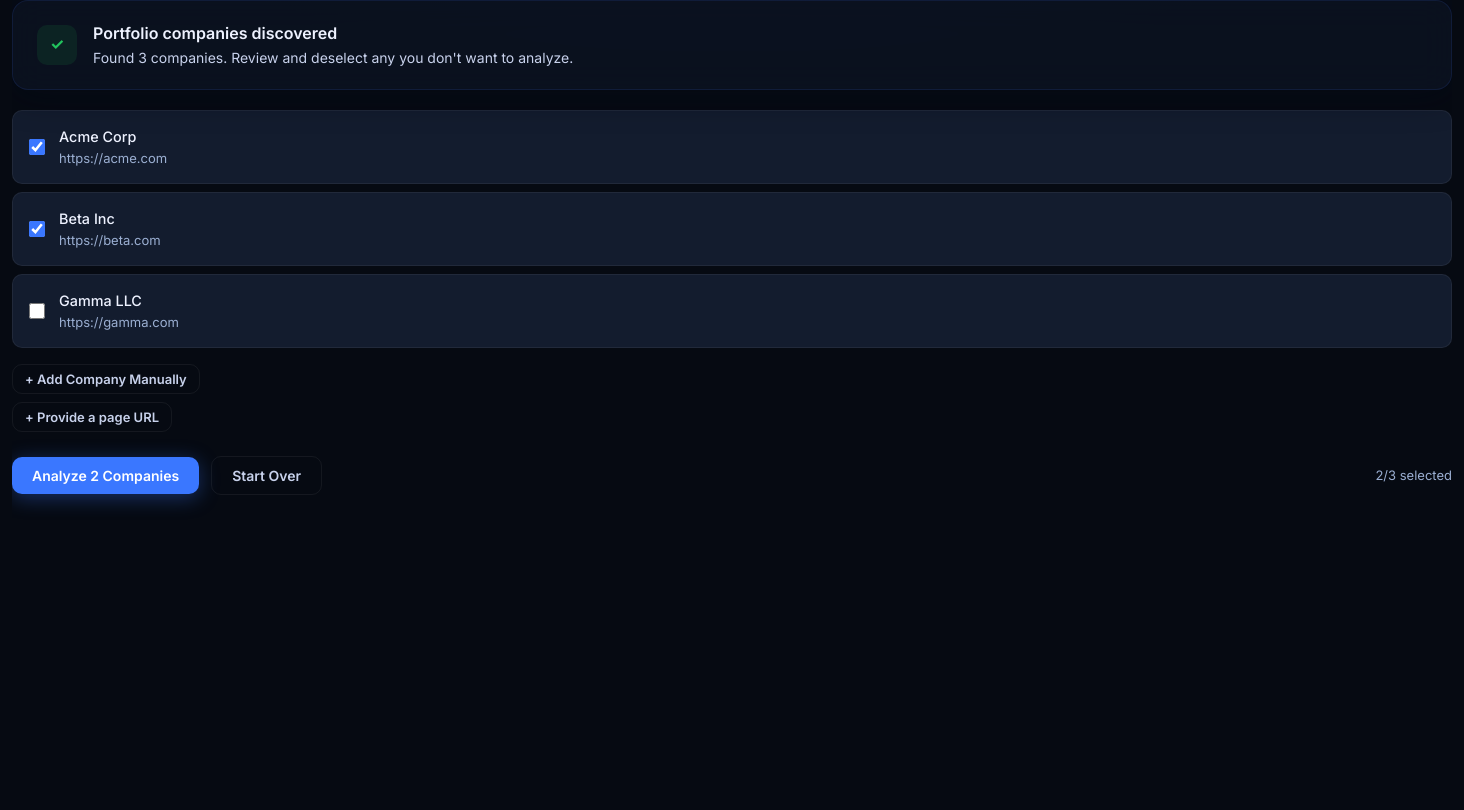
Test: PortfolioConfirmPhase › manual company addition › shows the friendly URL error for malformed input
Click the button "+ Add Company Manually".
click(106, 378)  # box top-left (12, 364), bottom-right (200, 394)
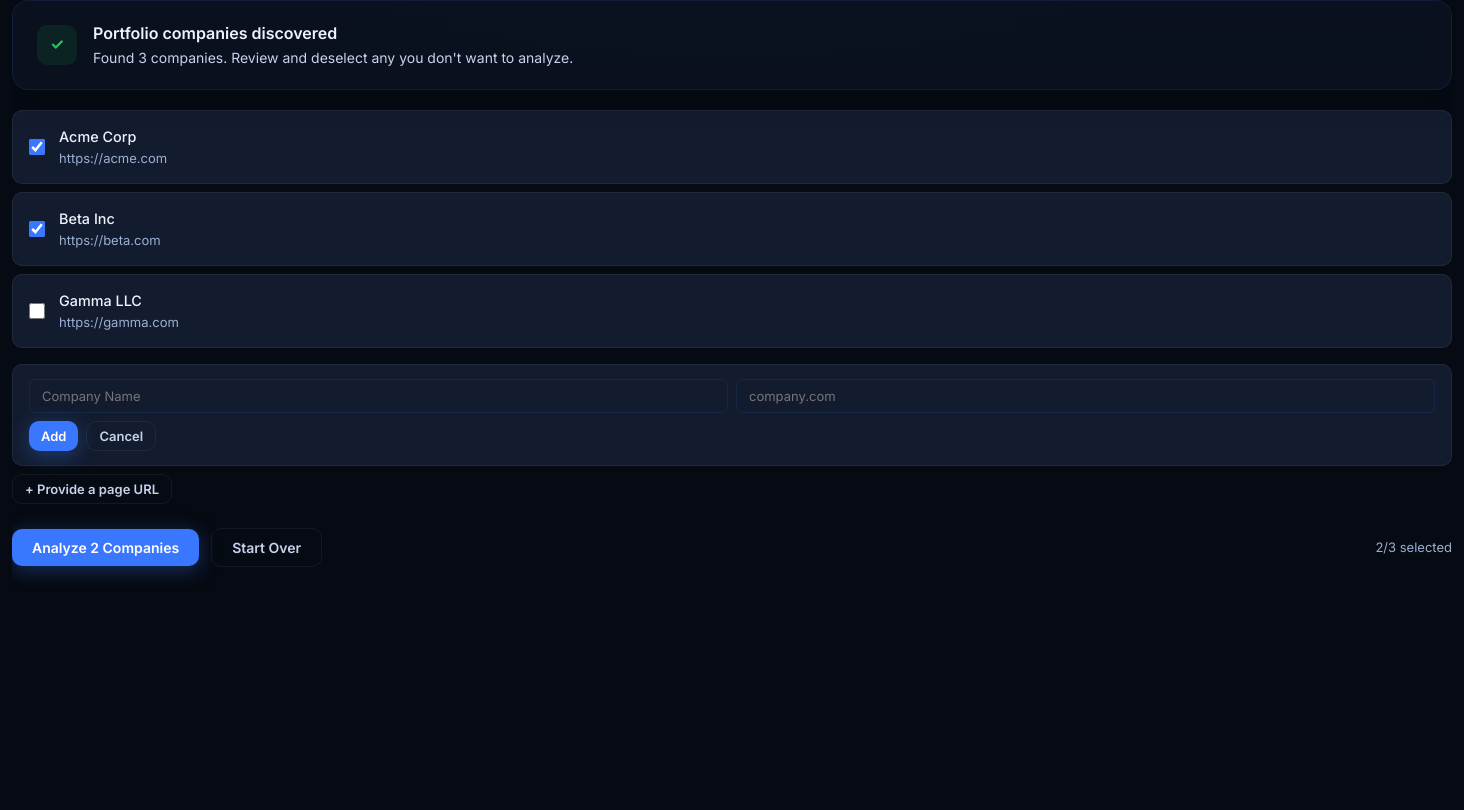
Type "New Corp" into the field labelled "Company Name".
click(378, 396); type("New Corp")  # box top-left (29, 378), bottom-right (728, 412)
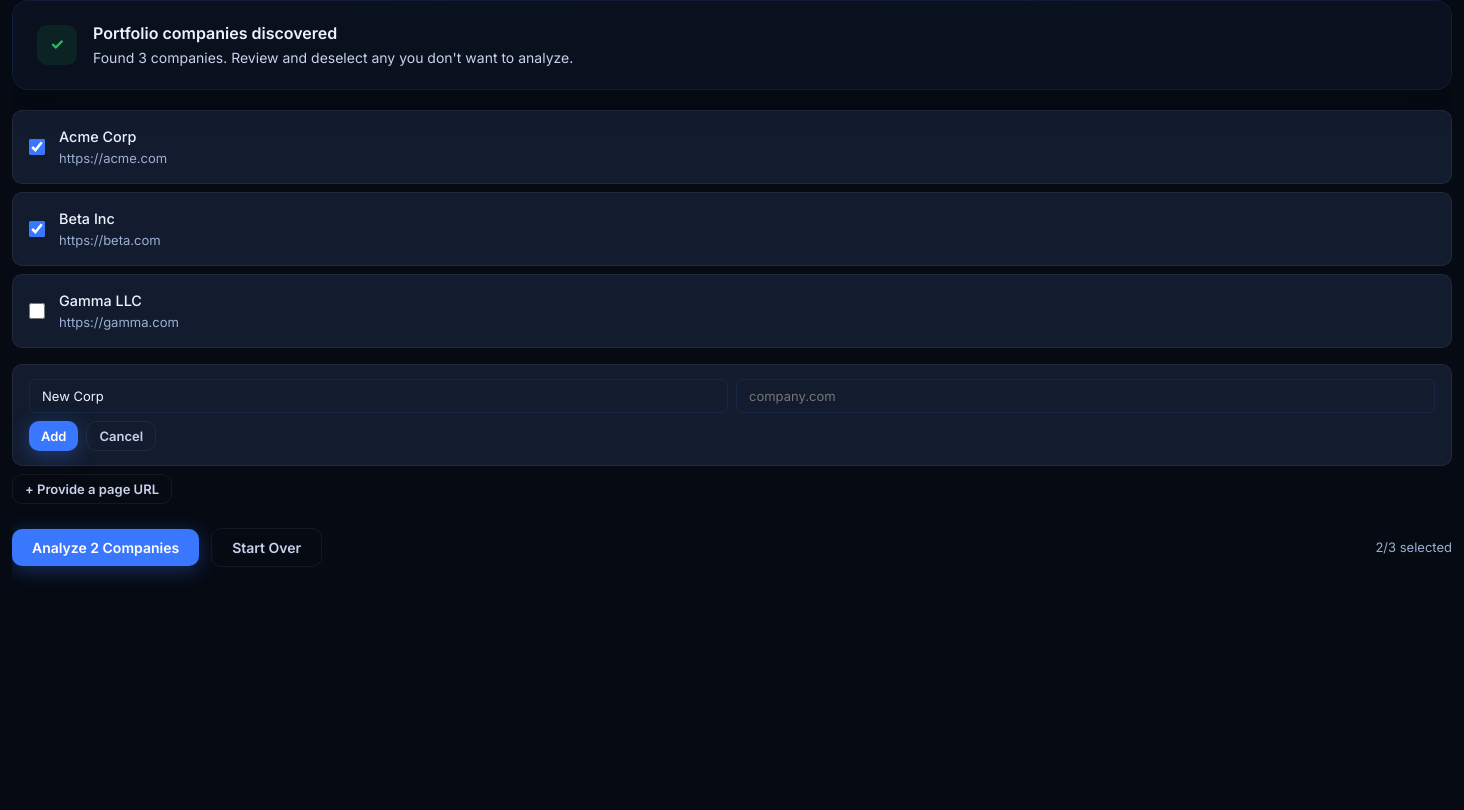
Type "notarealurl" into the field named "Company URL".
click(1086, 396); type("notarealurl")  # box top-left (736, 378), bottom-right (1435, 412)
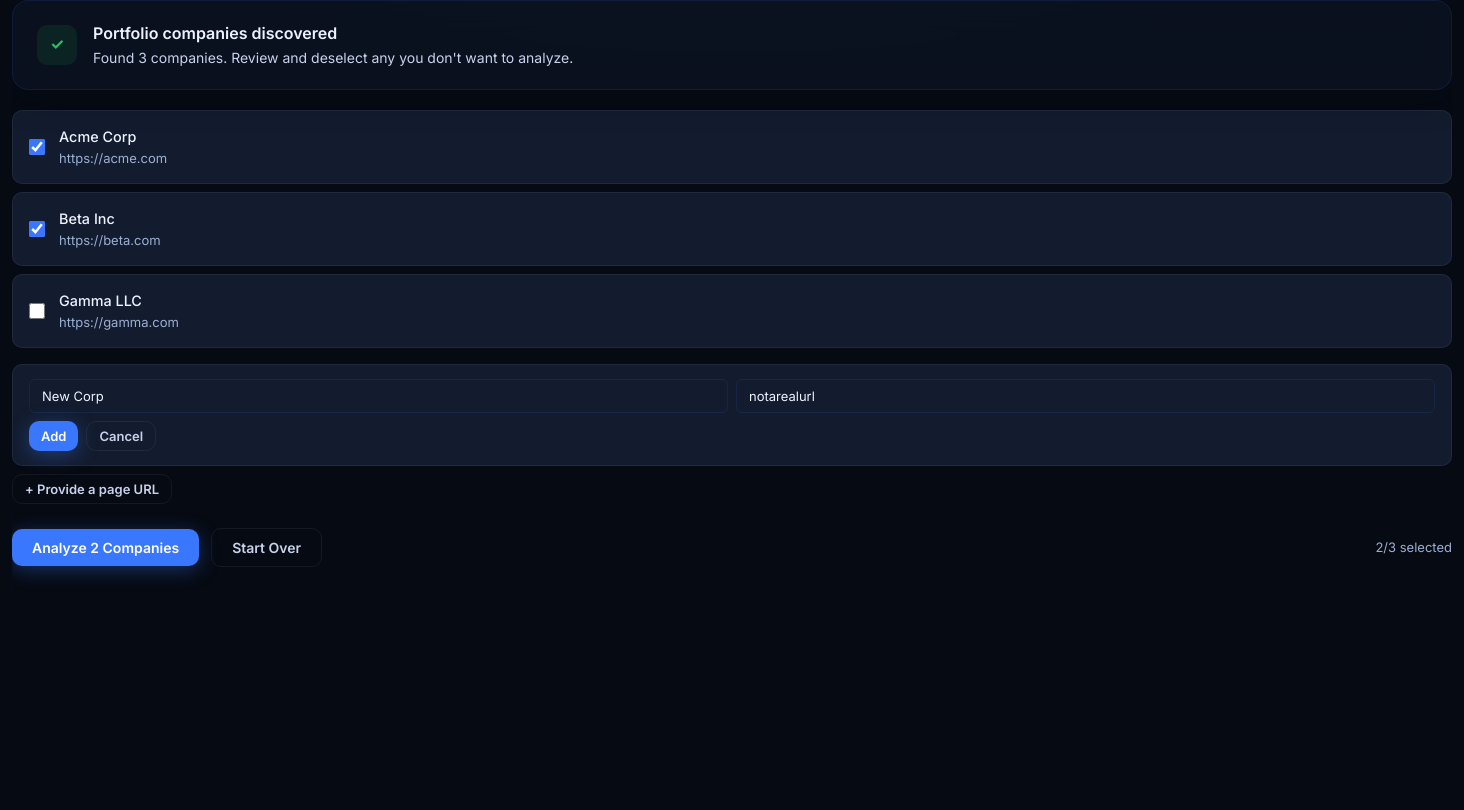
Click the button "Add".
click(54, 436)  # box top-left (29, 420), bottom-right (78, 450)
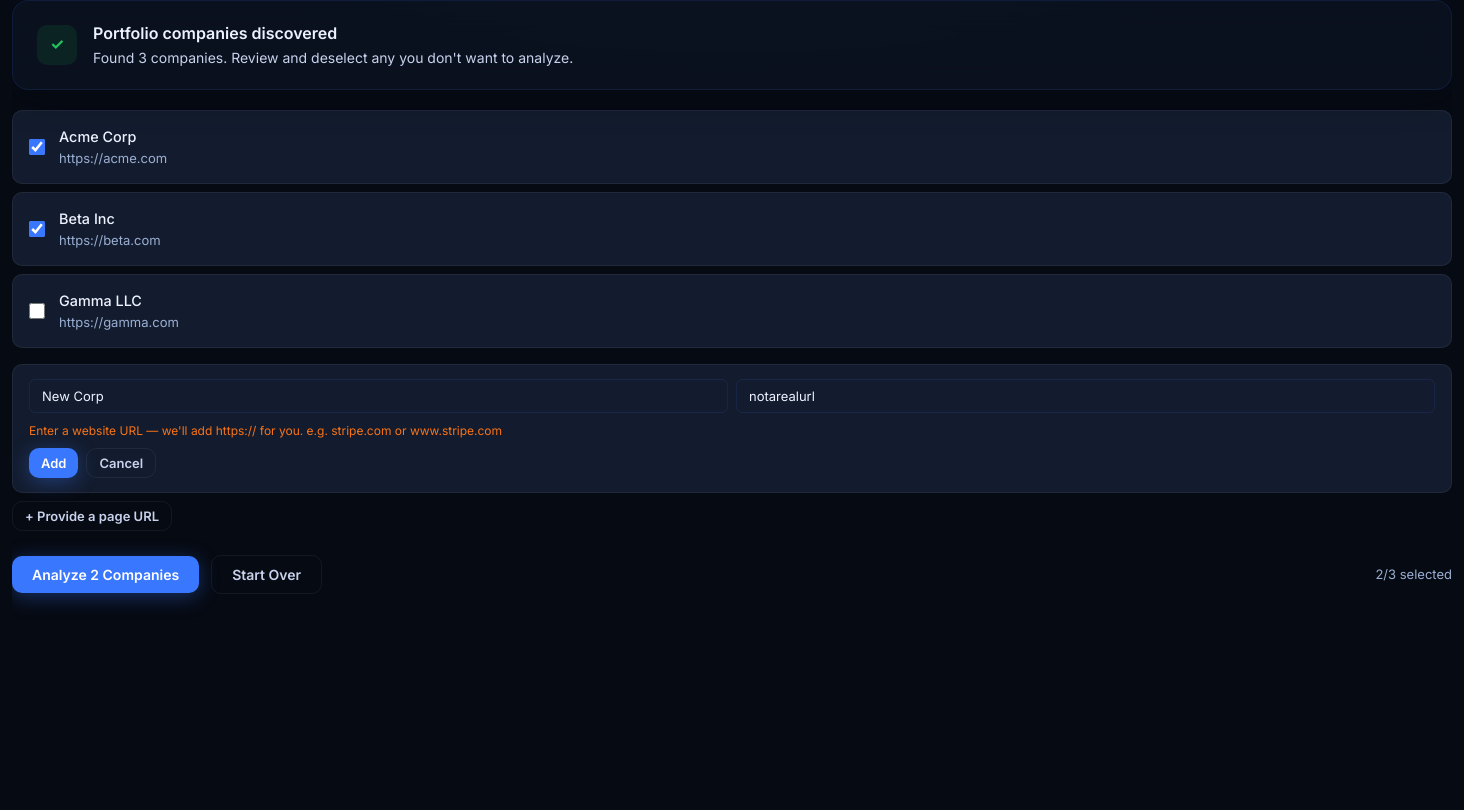
Result: the text "Enter a website URL — we'll add https:// for you. e.g. stripe.com or www.stripe.com" is shown at top-left (29, 422), bottom-right (502, 438)
